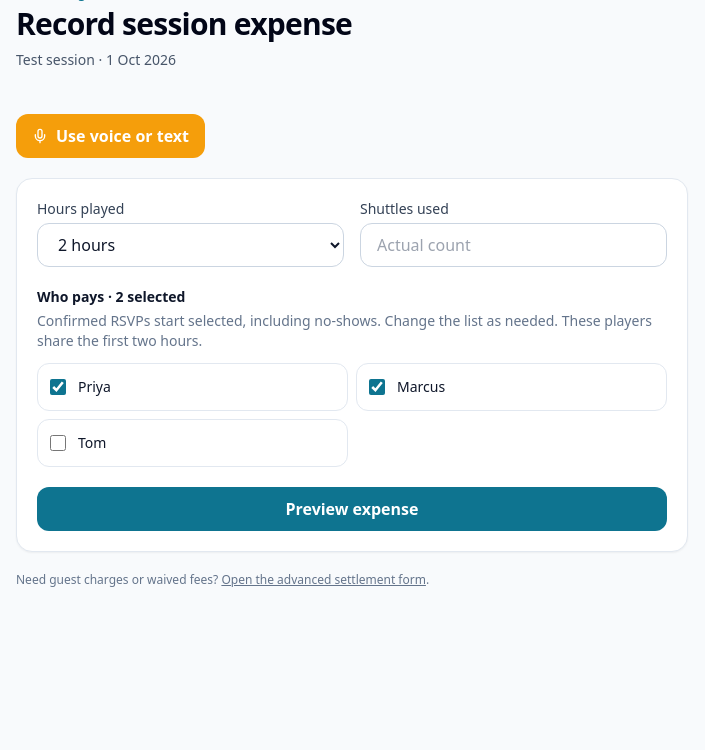
Expense form › lets an early leaver pay only for the first two hours
Select "3 hours" in the dropdown labelled "Hours played": point(190, 245) [37,223,344,267]
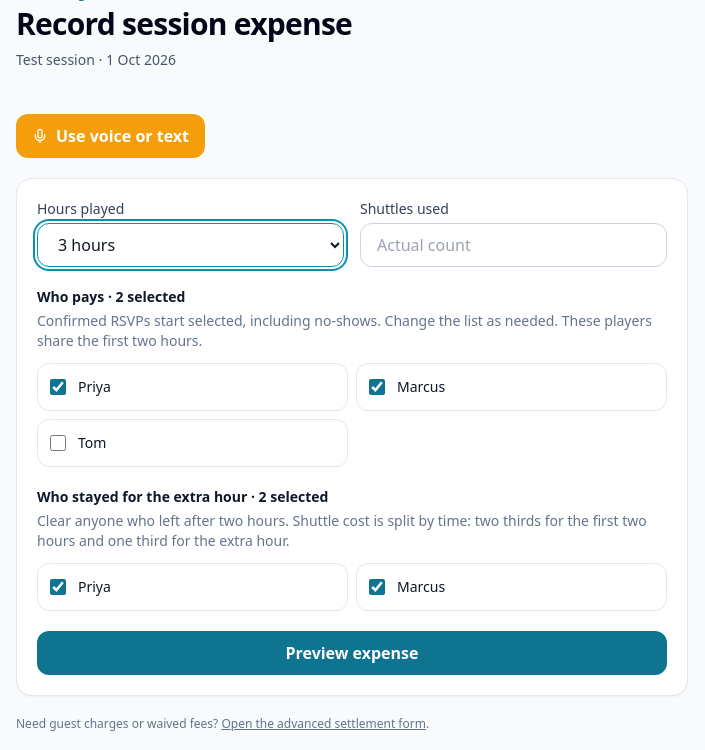
Result: the checkbox named "Priya, extra hour" is checked at [50,579,66,595]
Click the checkbox named "Marcus, extra hour": point(377, 587) [369,579,385,595]
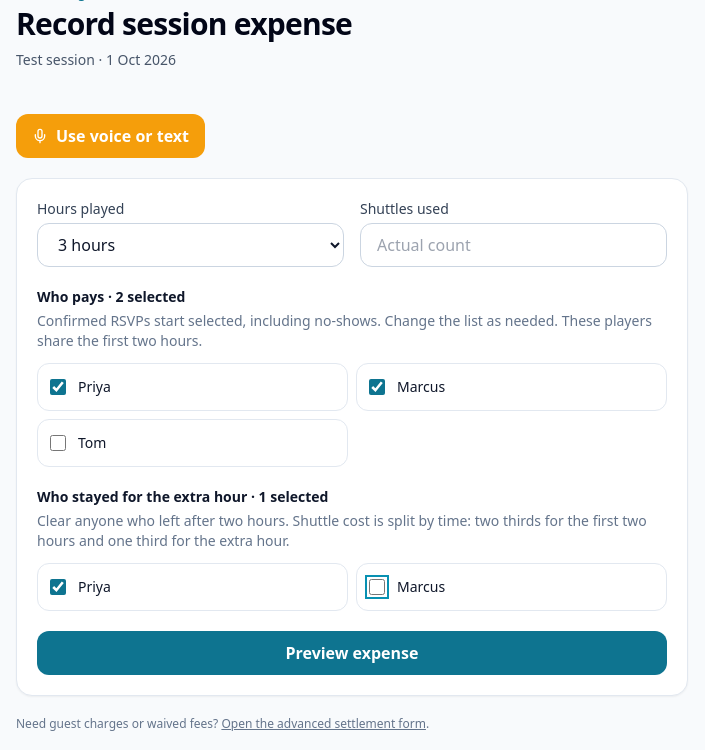
In the number field labelled "Shuttles used": point(514, 245) [360,223,667,267], type "8"
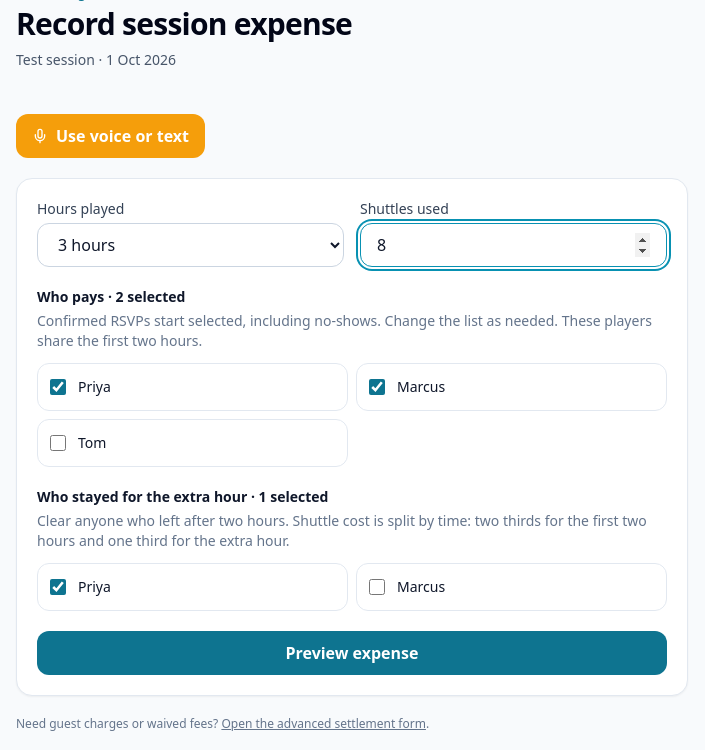
Click the button "Preview expense": point(352, 653) [37,631,667,675]
(page scrolled)
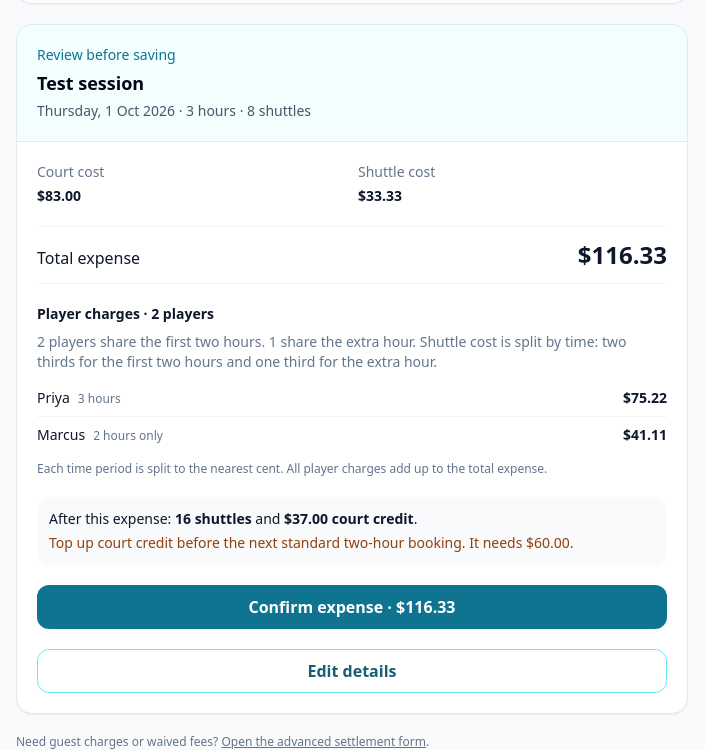
Result: the element named "Expense preview" is shown
Result: the text "2 hours only" is shown at [93,427,163,444]
Click the button "Confirm expense · $116.33": point(352, 607) [37,585,667,629]
(page scrolled)
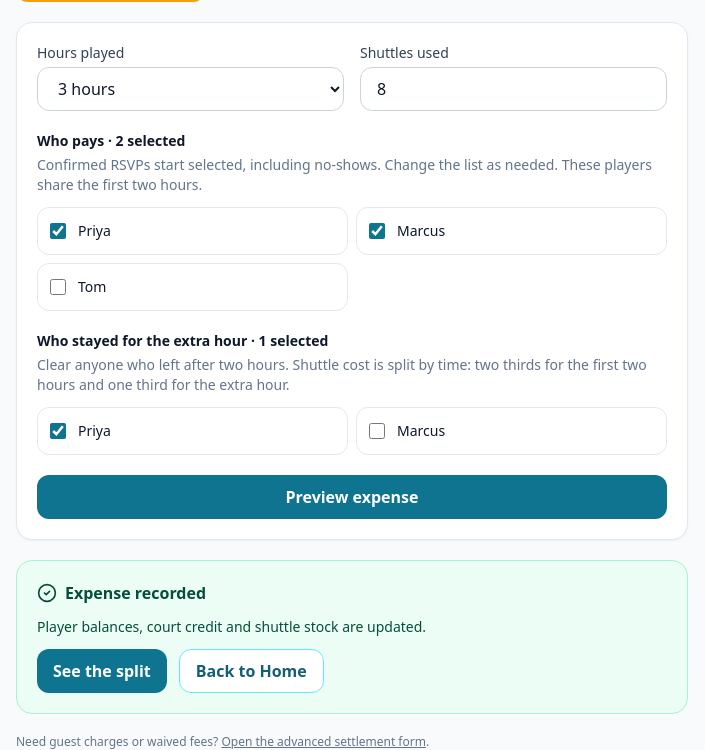
Result: the text "Expense recorded" is shown at [37,582,206,604]
